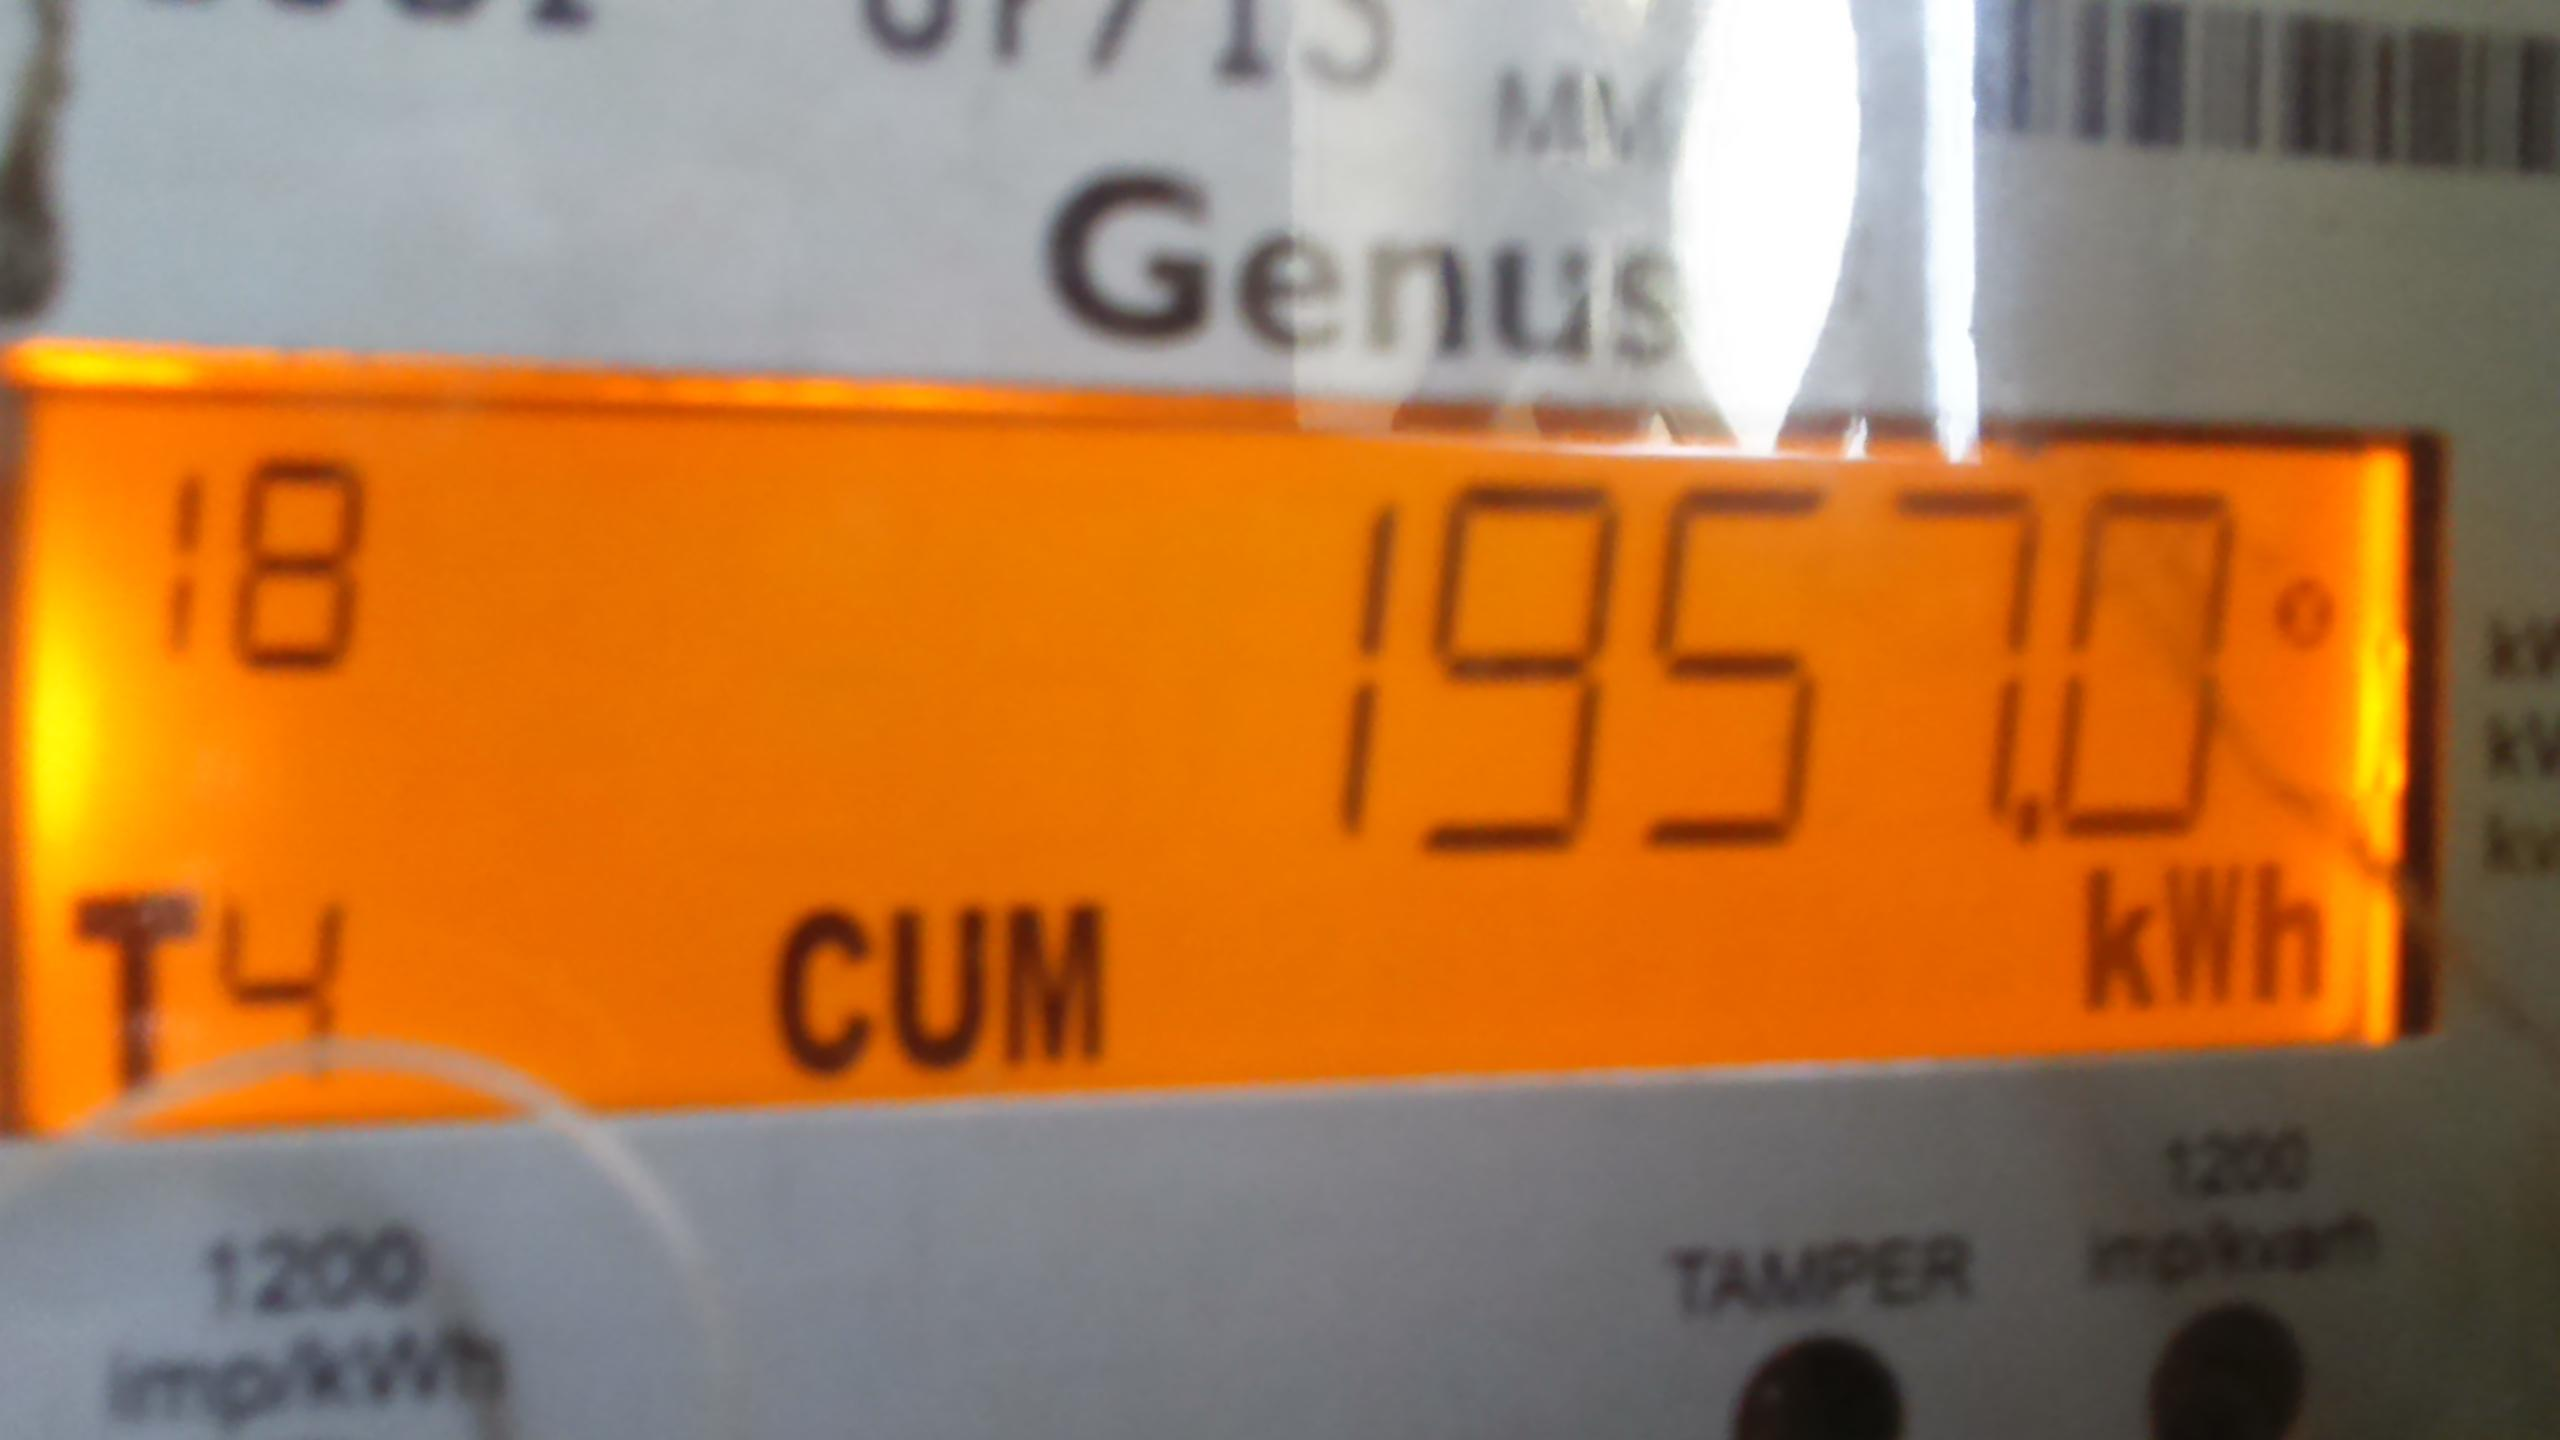.: (2066, 853, 2340, 1004)
0: (1967, 774, 2138, 920)
1: (2047, 473, 2270, 883)
2: (1313, 454, 1417, 879)
6: (1632, 468, 1834, 902)
8: (1862, 473, 2024, 826)
:: (1447, 454, 1611, 898)
